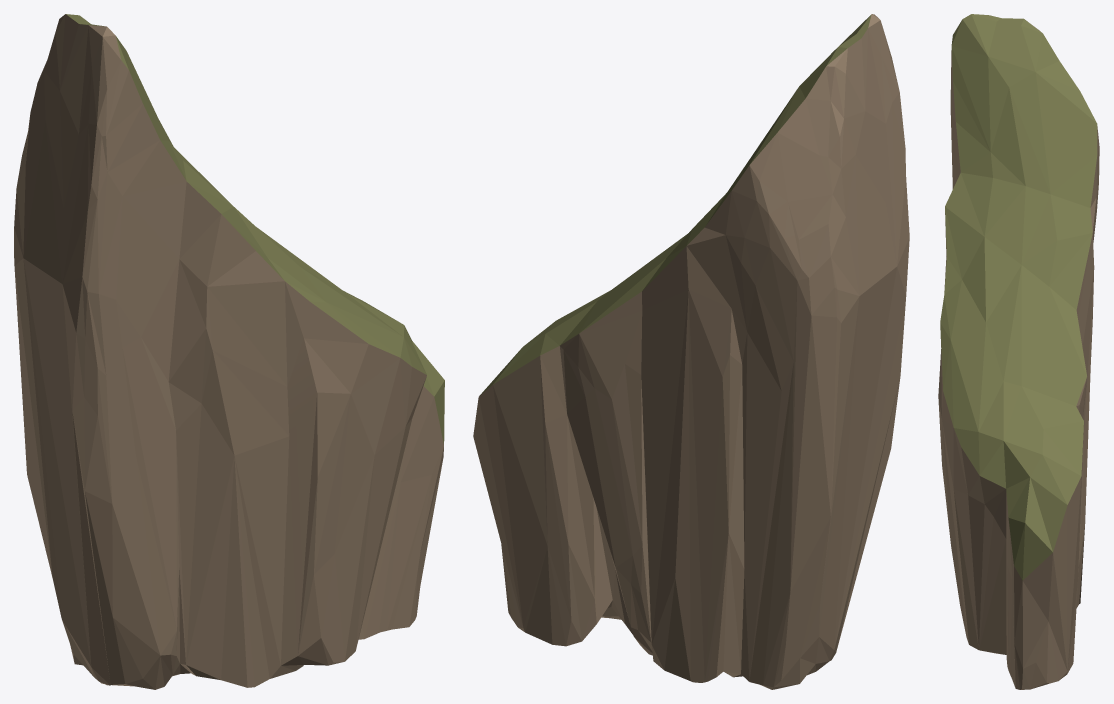
File: SM_Env_Rock_Curve_01.fbx
3 views of the same model, side by side, from view 1: azimuth 30°, elevation 25°; view 2: azimuth 150°, elevation 25°; view 3: azimuth 270°, elevation 25° (orthographic). The views are drawn at different scales.
Parts seen in each view (by area): view 1: SM_Env_Rock_Curve_01; view 2: SM_Env_Rock_Curve_01; view 3: SM_Env_Rock_Curve_01.
Part boxes in pixels (left/top/right/bottom): SM_Env_Rock_Curve_01: left=14, top=14, right=444, bottom=689; SM_Env_Rock_Curve_01: left=473, top=14, right=909, bottom=689; SM_Env_Rock_Curve_01: left=938, top=14, right=1099, bottom=689.
Size of the model in its own units: 2357 by 3850 by 1026.
